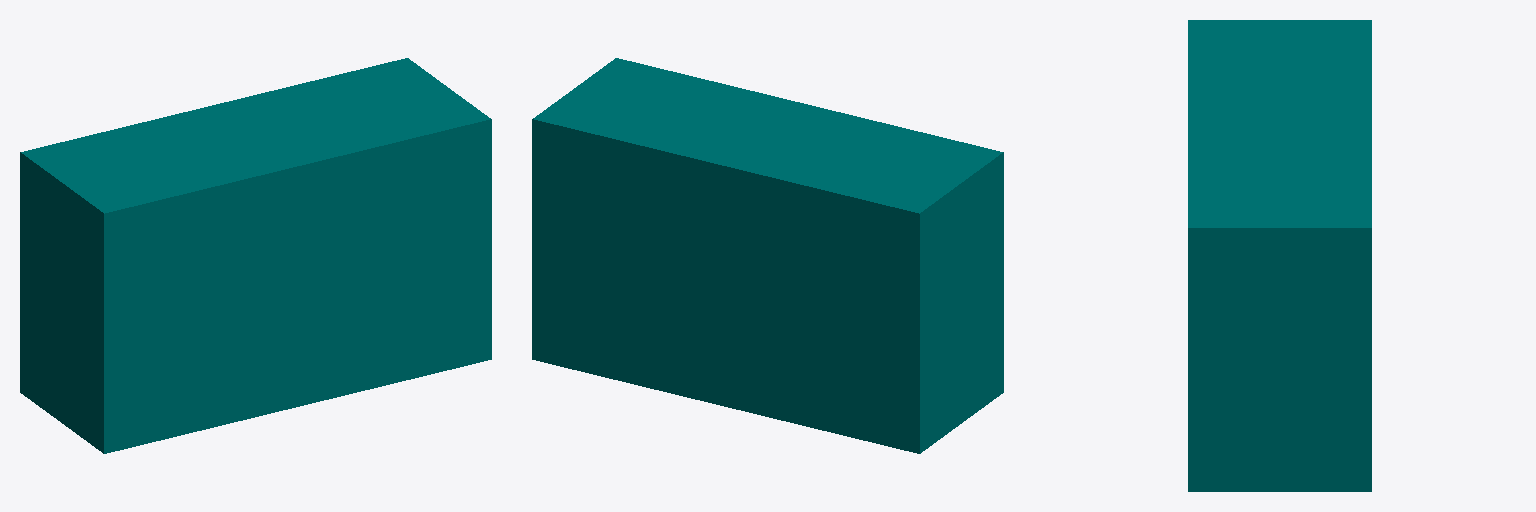
robot.urdf — box.urdf:
<?xml version="0.0" ?>
<robot name="box.urdf">
  <link name="baseLink">
    <contact>
      <lateral_friction value="0.5"/>
      <rolling_friction value="0.0"/>
      <contact_cfm value="0.0"/>
      <contact_erp value="1.0"/>
    </contact>
    <inertial>
      <origin rpy="0 0 0" xyz="0 0 0"/>
       <mass value=".01"/>
       <inertia ixx="1" ixy="0" ixz="0" iyy="1" iyz="0" izz="1"/>
    </inertial>
    <visual>
      <origin rpy="0 0 0" xyz="0 0 0"/>
      <geometry>
				<mesh filename="box.obj" scale="0.16 0.06 0.095"/>
      </geometry>
       <material name="white">
        <color rgba="0 0.5 0.5 1"/>
      </material>
    </visual>
    <collision>
      <origin rpy="0 0 0" xyz="0 0 0"/>
      <geometry>
	 	<box size="0.16 0.06 0.095"/>
      </geometry>
    </collision>
  </link>
</robot>

--- Facts derived from the render (not from the file) ---
Views: 3 orthographic renders of the robot side by side, from view 1: azimuth 30°, elevation 25°; view 2: azimuth 150°, elevation 25°; view 3: azimuth 270°, elevation 25°.
Model box.urdf with 1 links and 0 joints (none), rooted at baseLink, posed all joints at 0.
Links seen in each view (by area): view 1: baseLink; view 2: baseLink; view 3: baseLink.
Link boxes in pixels (box(x1,y1,x2,y2)): baseLink: box(20, 58, 491, 453); baseLink: box(532, 58, 1003, 453); baseLink: box(1188, 20, 1371, 491).
Bounding box of the posed robot: 0.16 × 0.06 × 0.095 m (x, y, z).
1 mesh visuals loaded from 1 distinct referenced files (1 OBJ).